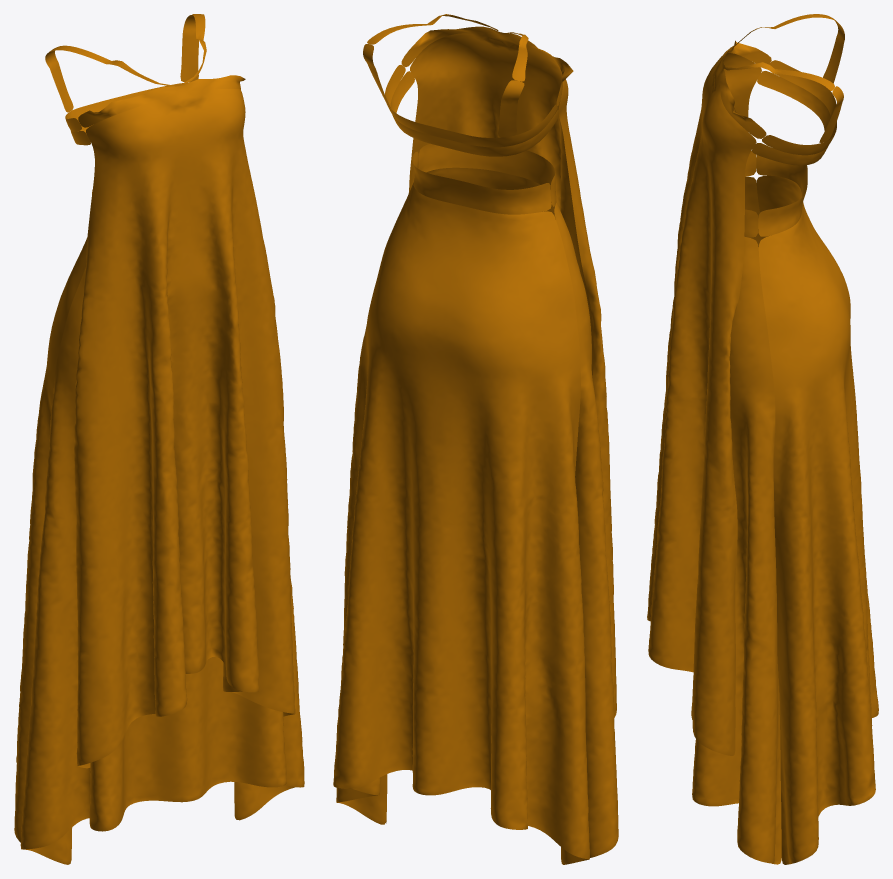
File: evening_dress.glb
The picture shows the model from 3 angles, left to right: view 1: azimuth 30°, elevation 25°; view 2: azimuth 150°, elevation 25°; view 3: azimuth 270°, elevation 25°; orthographic projection. The views are drawn at different scales.
Visible parts, largest first — view 1: evening_dress; view 2: evening_dress; view 3: evening_dress.
Part boxes in pixels (x1,y1,x2,y2): evening_dress: [14, 14, 304, 864]; evening_dress: [333, 14, 618, 864]; evening_dress: [647, 14, 878, 864].
Bounding box in the file's own units: 0.6444 × 1.8 × 0.4855.
